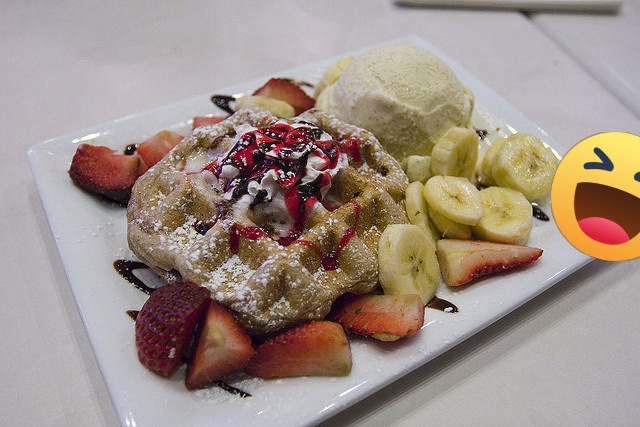haha: (551, 132, 640, 261)
